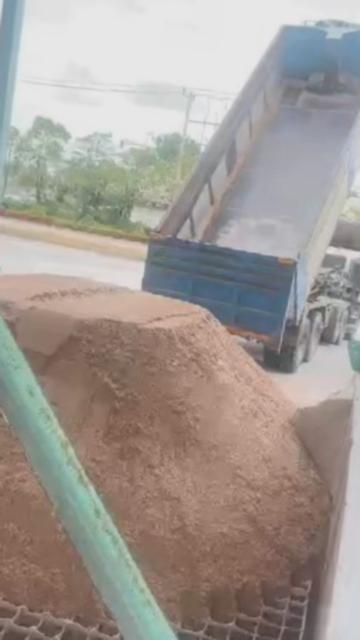sand: (0, 275, 326, 619), (0, 342, 100, 618), (296, 381, 354, 500)
